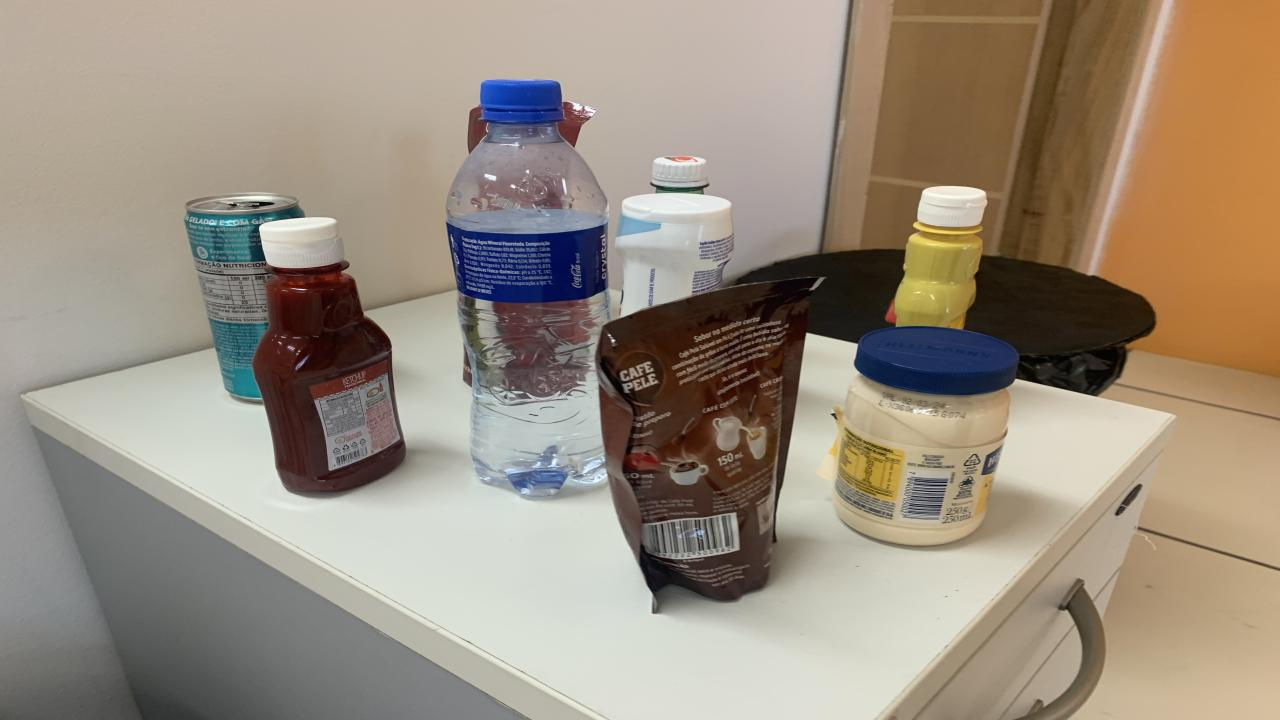Cleaner-Cleanup_Items: (615, 191, 735, 315)
Coffee-Pantry_Items: (598, 278, 818, 600)
Guarana-Drinks: (652, 156, 708, 188)
Ketchup-Pantry_Items: (252, 218, 405, 491)
Mayonnaise-Pantry_Items: (832, 324, 1018, 546)
Mustard-Pantry_Items: (892, 186, 988, 328)
Tea-Drinks: (185, 193, 302, 401)
Tomato_Sauce-Pantry_Items: (558, 101, 598, 146), (468, 107, 488, 152)
Water_Bottle-Drinks: (448, 79, 610, 499)
